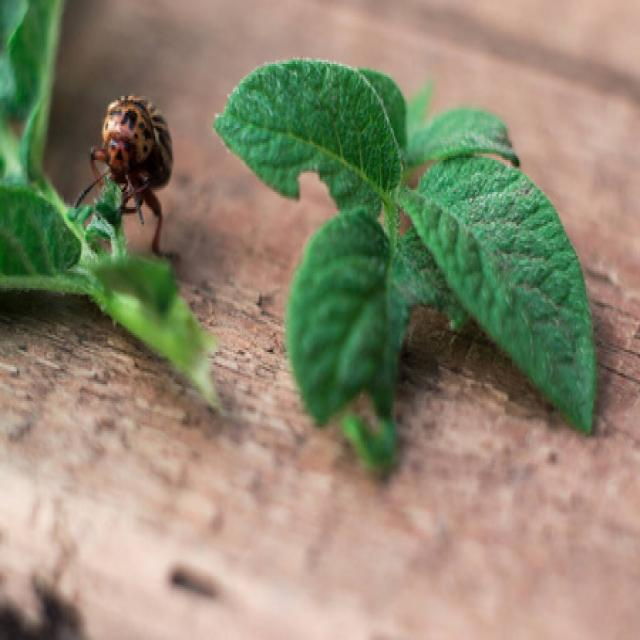ShuCaiHuaBanChong-Grown-: (88, 69, 198, 243)
